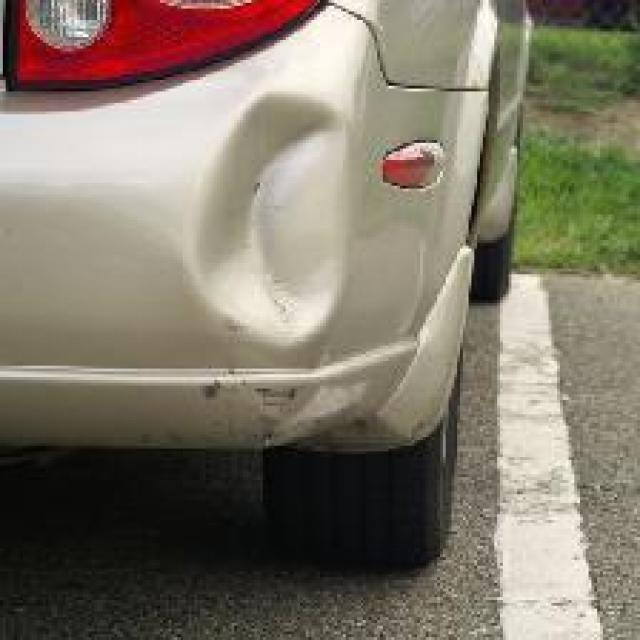damaged: (183, 89, 346, 358), (200, 371, 440, 463)
